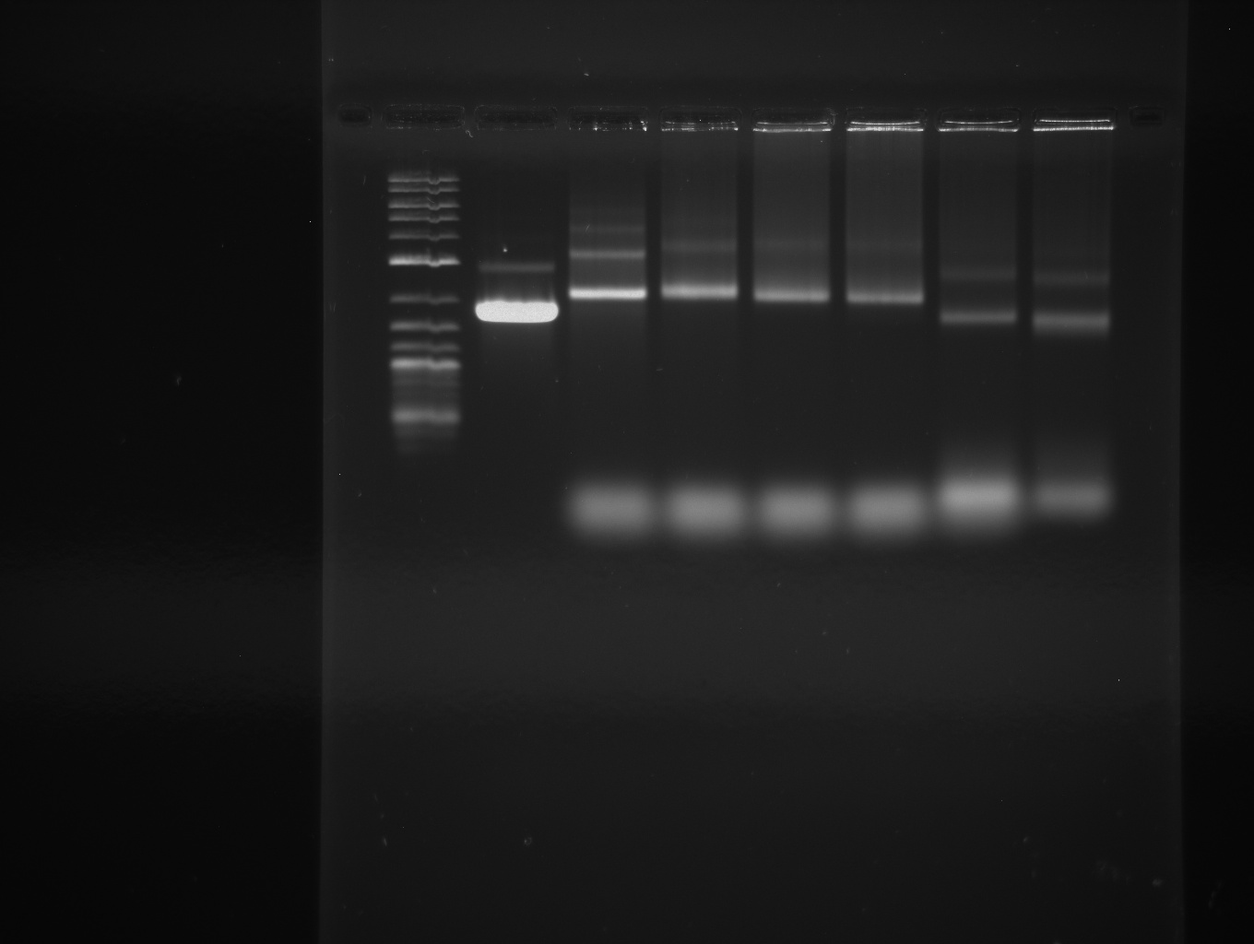Lane: (645, 55, 746, 944), (929, 48, 1023, 944), (470, 39, 558, 944), (841, 53, 927, 944), (1030, 44, 1112, 937), (751, 58, 832, 944), (565, 46, 642, 944)
ladder: (383, 38, 464, 944)
